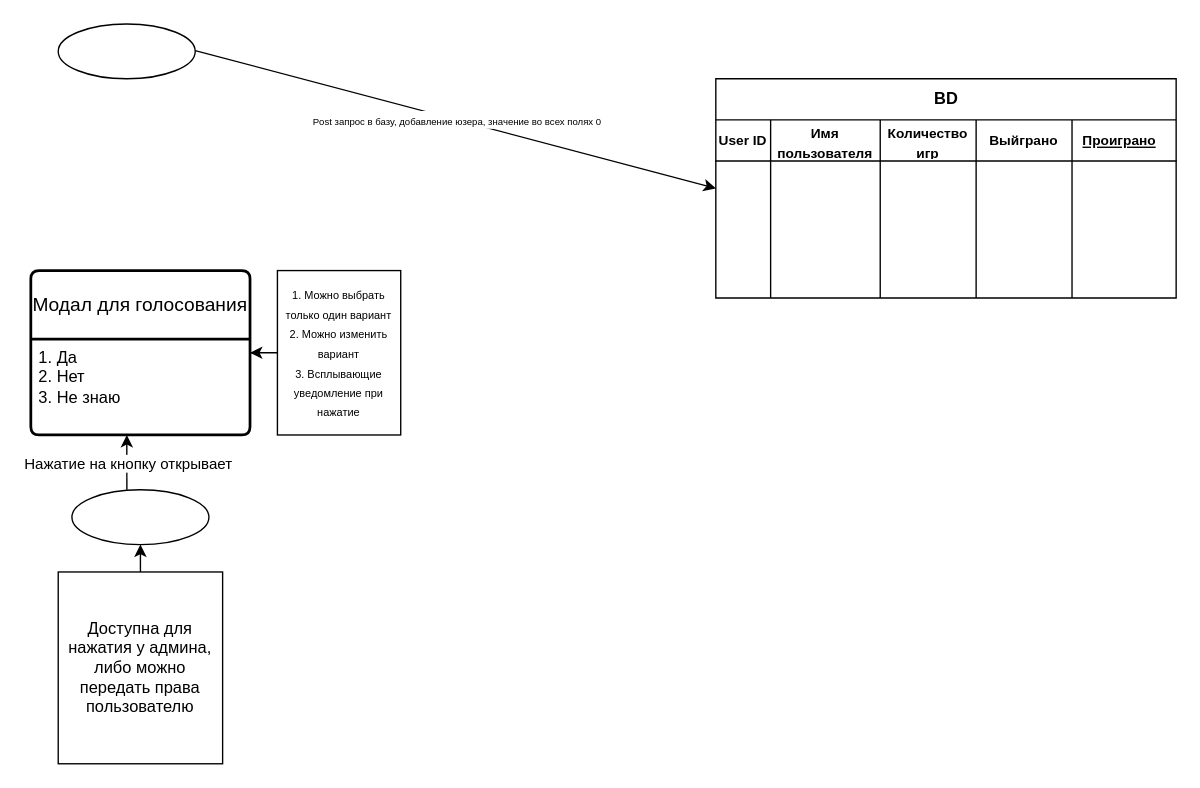
Image size: 1200x788. Some labels were removed from this diagram. Each missing label, with the centre of its shape:
"START" belongs at (x=126, y=51).
"Начать голосование" belongs at (x=140, y=516).
